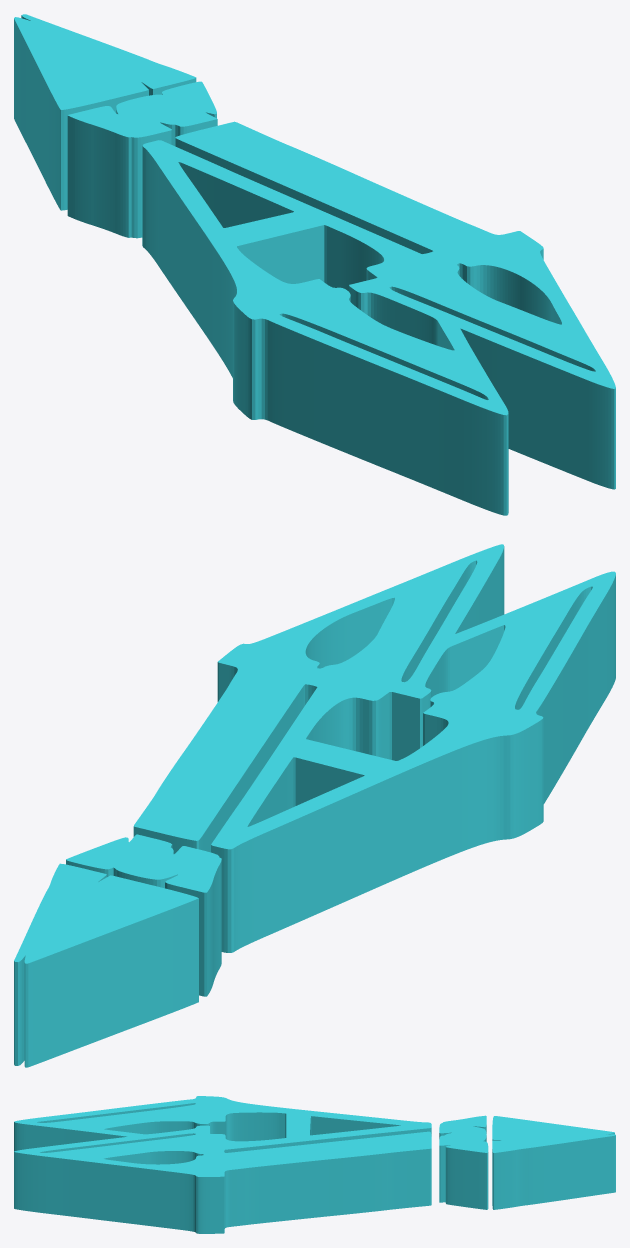
File: aw_icon.glb
3 views of the same model, one above another, from view 1: azimuth 30°, elevation 25°; view 2: azimuth 150°, elevation 25°; view 3: azimuth 270°, elevation 25° (orthographic). The views are drawn at different scales.
Visible parts, largest first — view 1: imagetostl_mesh; view 2: imagetostl_mesh; view 3: imagetostl_mesh.
Part boxes in pixels (x1,y1,x2,y2): imagetostl_mesh: (14,14,615,515); imagetostl_mesh: (14,544,615,1067); imagetostl_mesh: (14,1096,615,1233).
Size of the model in its own units: 30.54 by 10 by 95.87.
